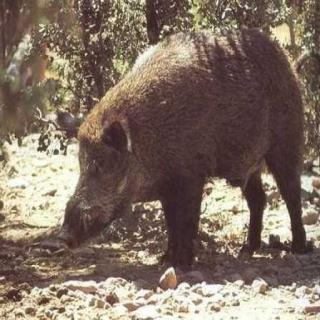Pig: (57, 29, 320, 226)
